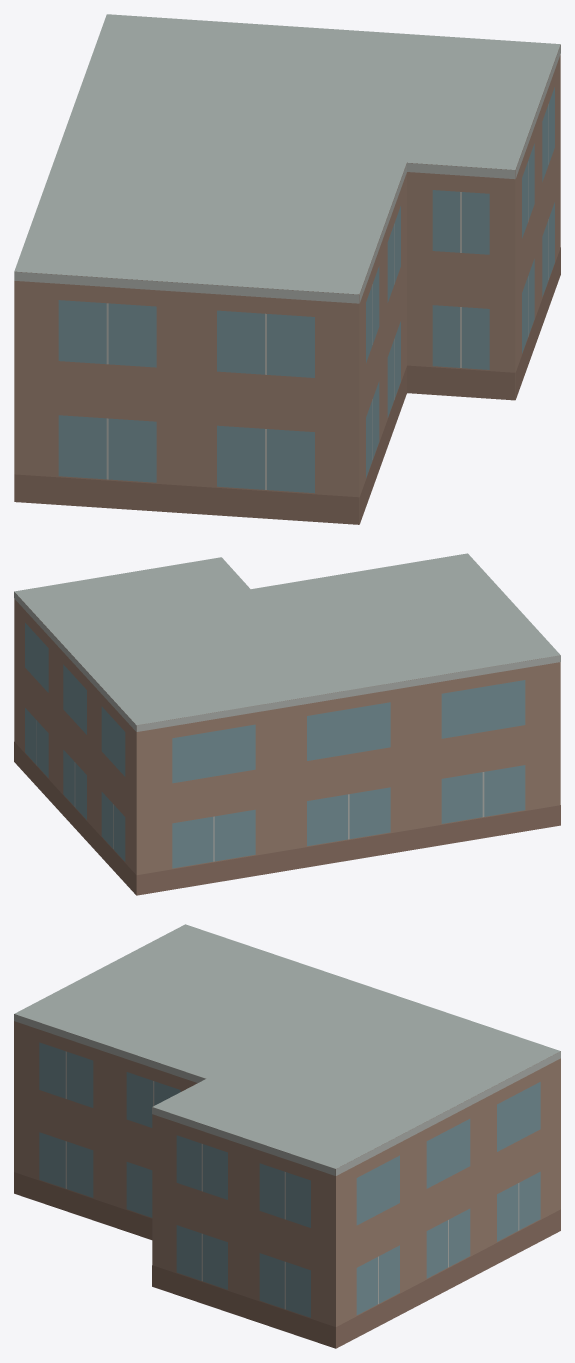
Rendered from survey-upis-32799675.glb.
The picture shows the model from 3 angles, top to bottom: view 1: azimuth 30°, elevation 25°; view 2: azimuth 150°, elevation 25°; view 3: azimuth 270°, elevation 25°; orthographic projection. The views are drawn at different scales.
Parts seen in each view (by area): view 1: survey-upis-32799675.tmp; view 2: survey-upis-32799675.tmp; view 3: survey-upis-32799675.tmp.
Boxes of the visible parts, <box> form: survey-upis-32799675.tmp: <box>14,14,560,524</box>; survey-upis-32799675.tmp: <box>14,553,560,895</box>; survey-upis-32799675.tmp: <box>14,924,560,1348</box>.
Size of the model in its own units: 17.83 by 6.1 by 16.83.
